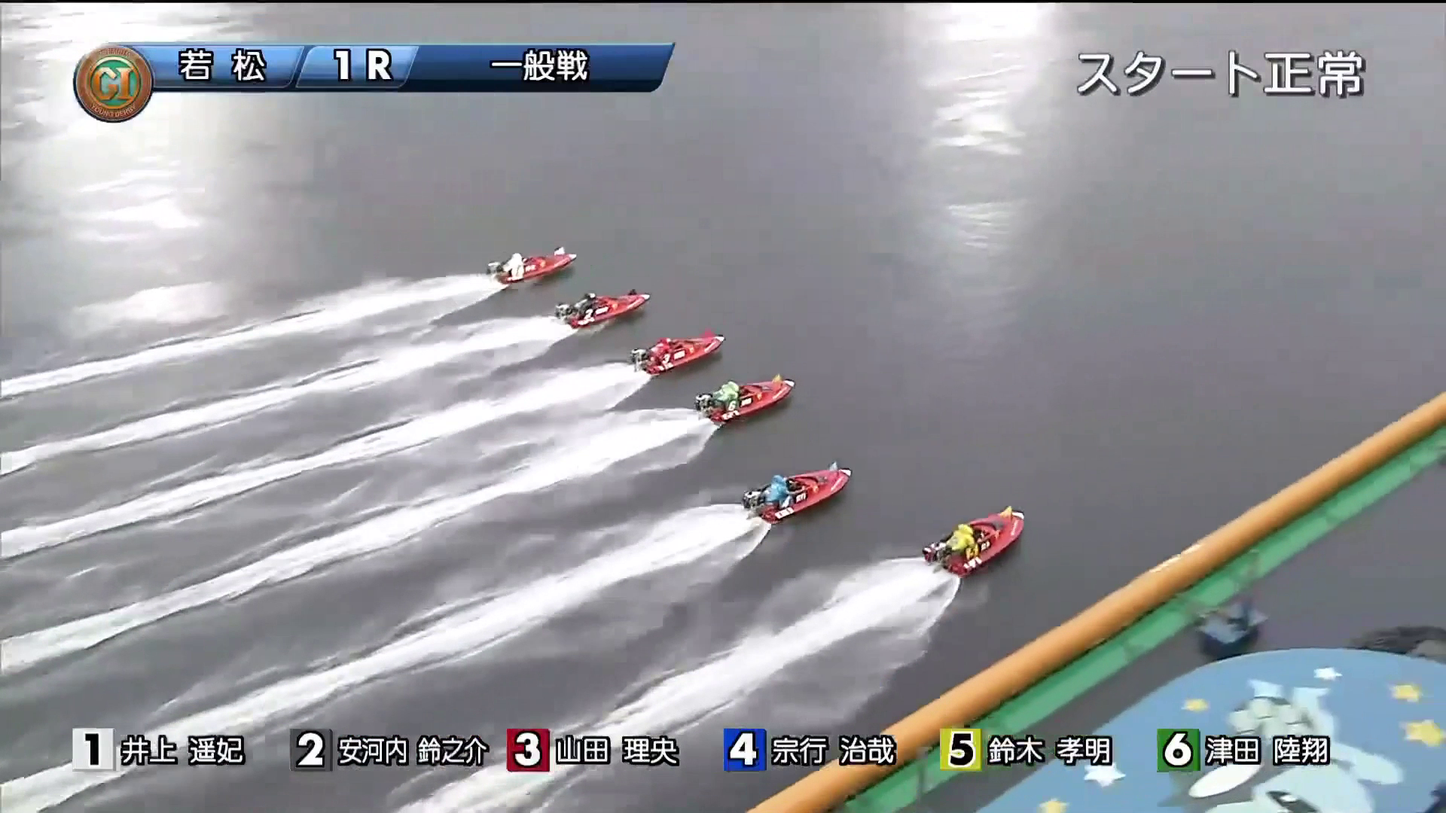１号艇: (634, 276, 710, 316)
２号艇: (594, 294, 683, 332)
３号艇: (641, 334, 731, 376)
４号艇: (687, 388, 792, 432)
５号艇: (709, 462, 829, 517)
６号艇: (855, 515, 954, 572)
